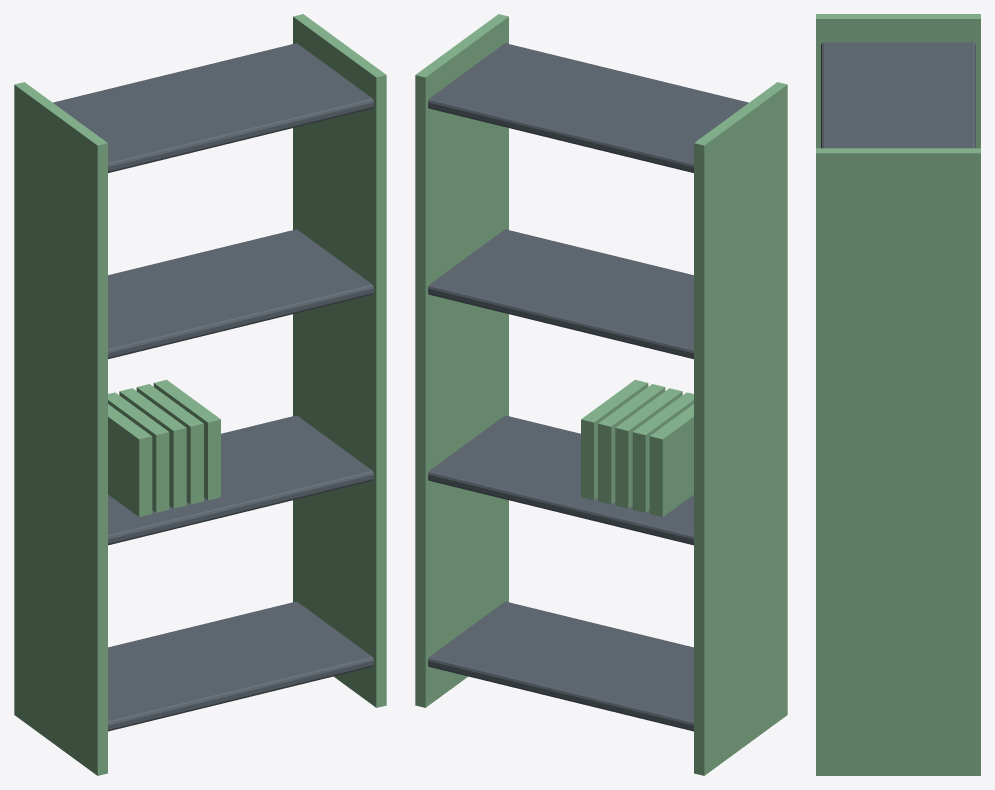
Rendered from ai.storage-shelf.glb.
The picture shows the model from 3 angles, left to right: view 1: azimuth 30°, elevation 25°; view 2: azimuth 150°, elevation 25°; view 3: azimuth 270°, elevation 25°; orthographic projection.
Visible parts, largest first — view 1: Hero_Asset; view 2: Hero_Asset; view 3: Hero_Asset.
Part boxes in pixels (x1,y1,x2,y2): Hero_Asset: [14, 14, 386, 775]; Hero_Asset: [415, 14, 787, 775]; Hero_Asset: [816, 14, 980, 775].
Size of the model in its own units: 0.84 by 1.75 by 0.42.
